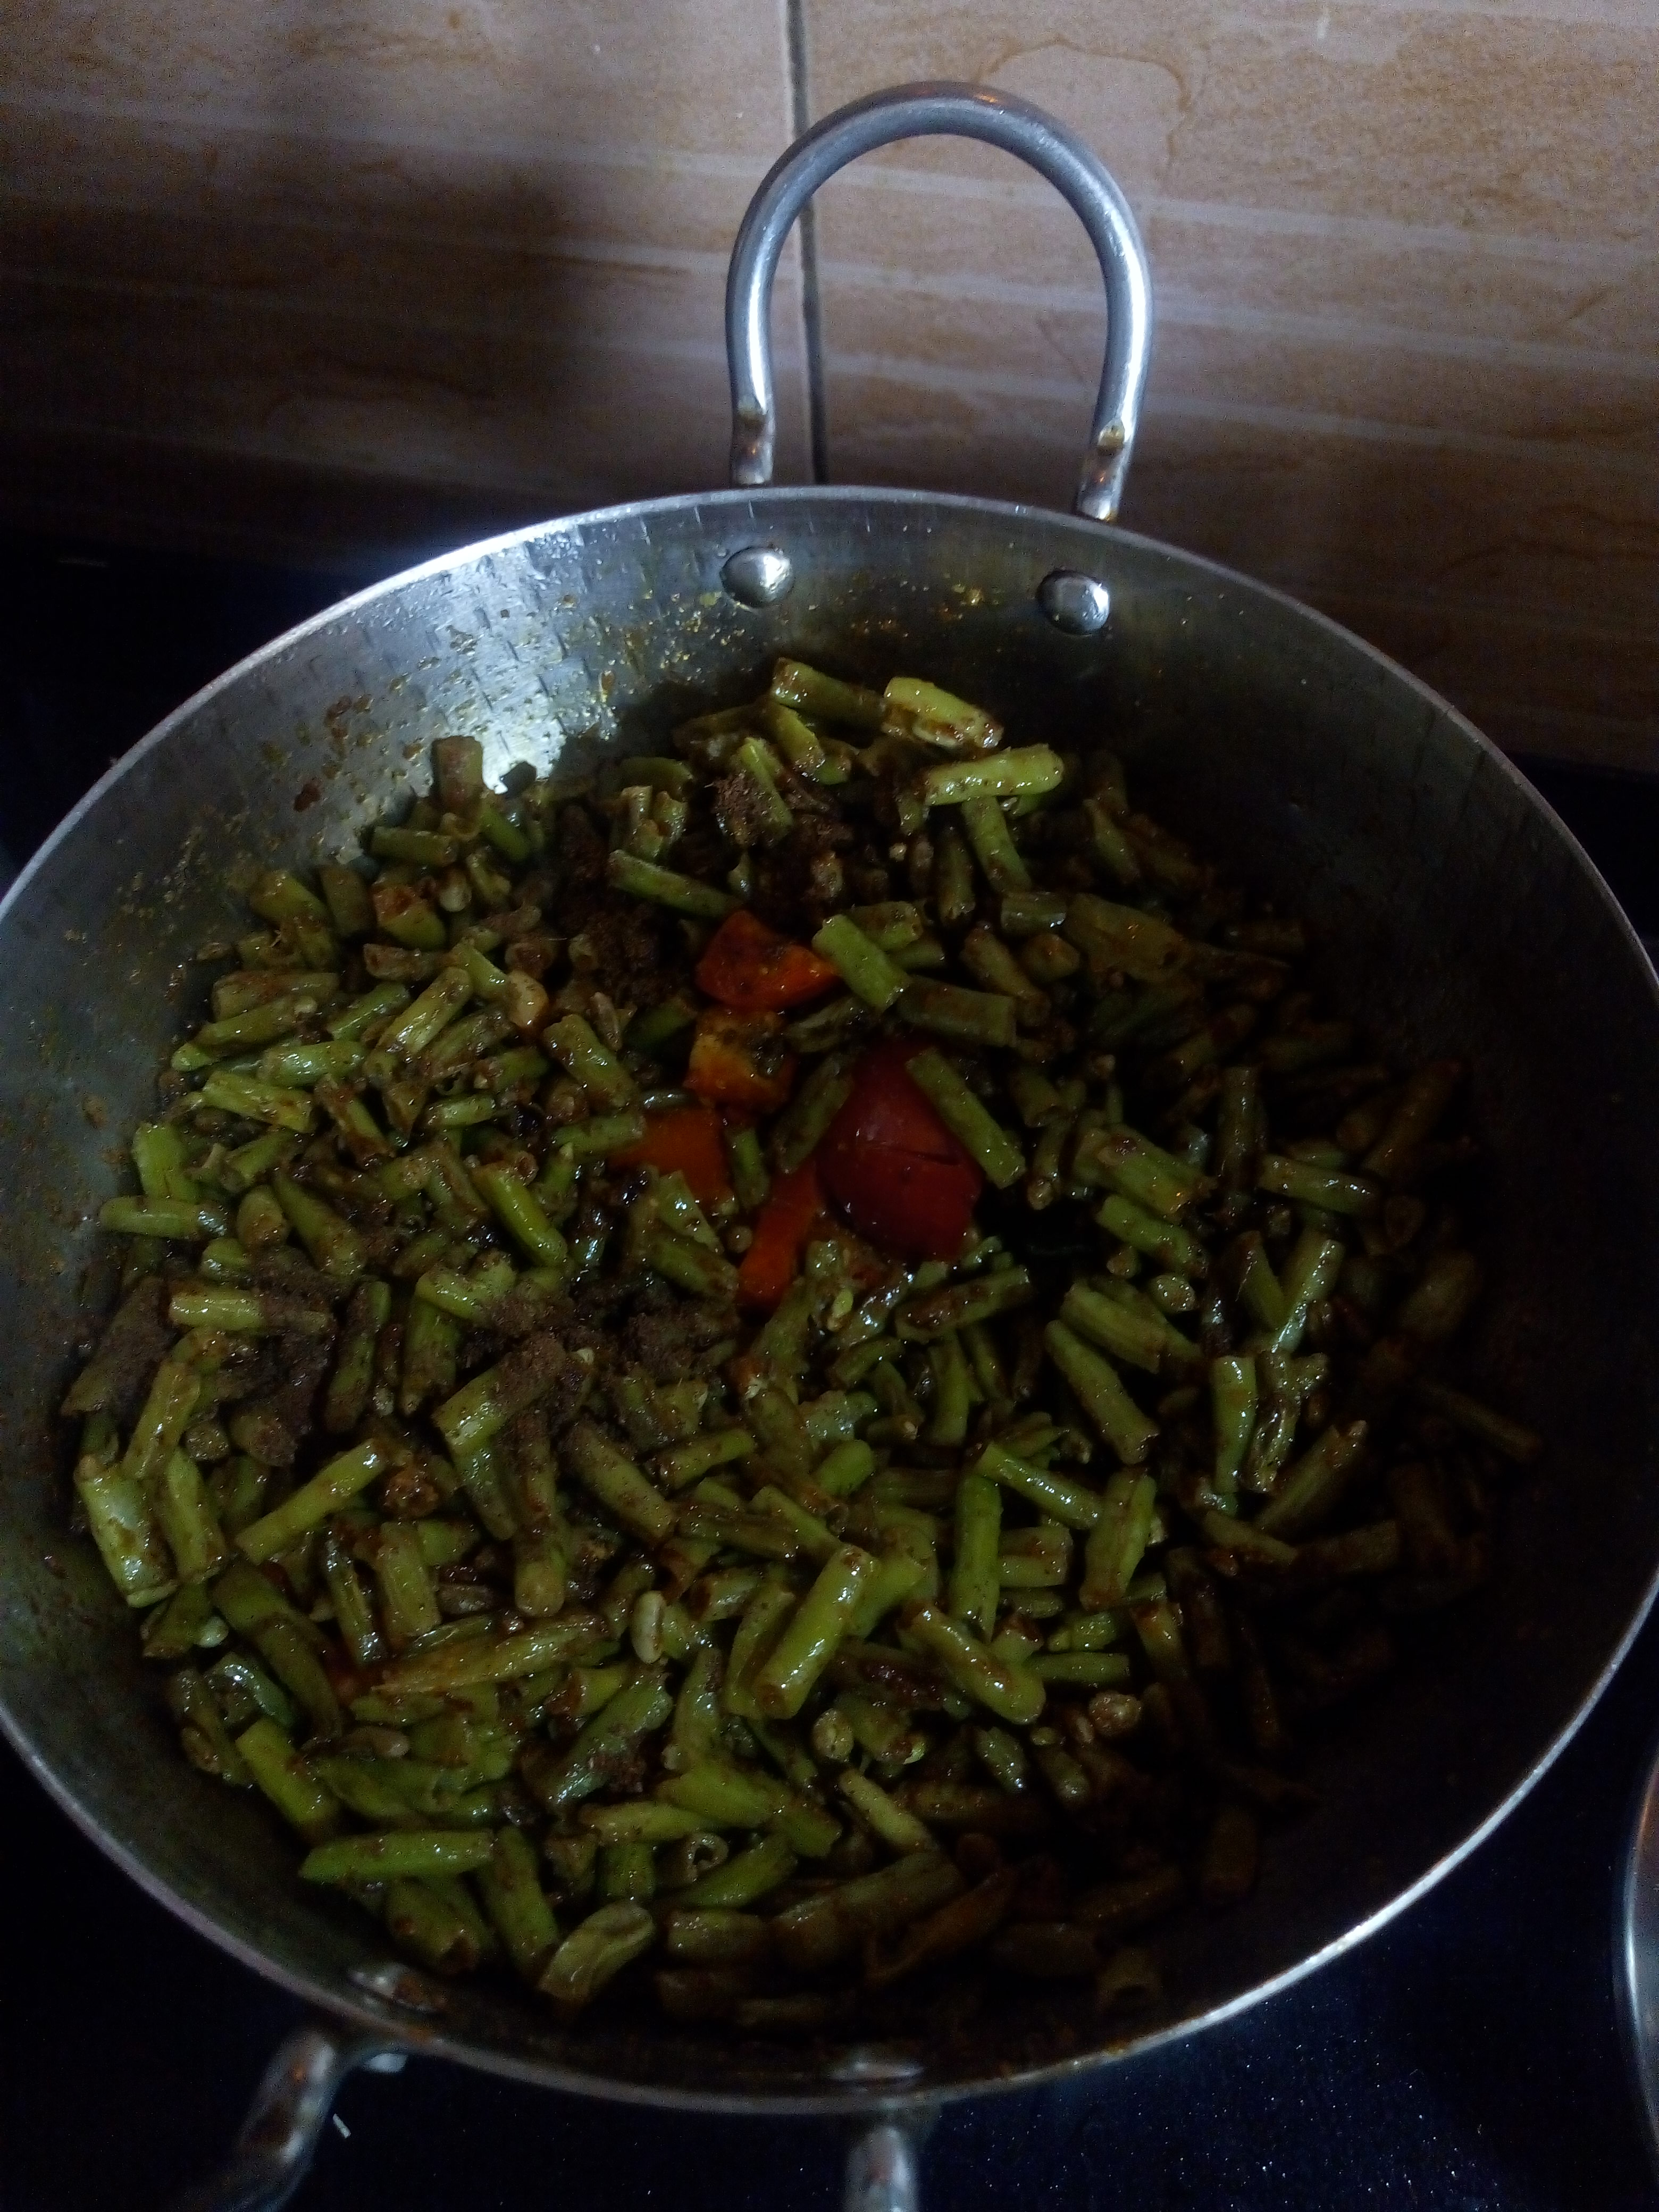food: (49, 641, 1570, 2036)
